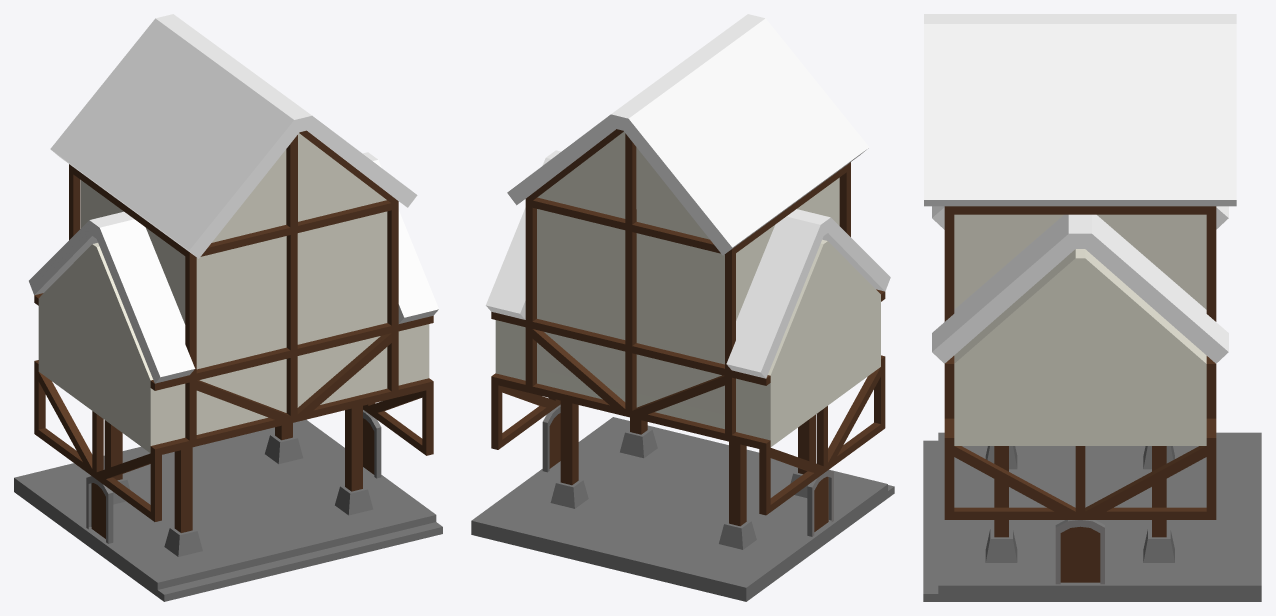
Rendered from Guild Hall Long Tower.fbx.
3 renders of one model, left to right at view 1: azimuth 30°, elevation 25°; view 2: azimuth 150°, elevation 25°; view 3: azimuth 270°, elevation 25°, orthographic. The views are drawn at different scales.
Visible parts, largest first — view 1: Guild Hall Long Tower; view 2: Guild Hall Long Tower; view 3: Guild Hall Long Tower.
Part boxes in pixels (box(x1,y1,x2,y2)): Guild Hall Long Tower: box(14, 14, 442, 601); Guild Hall Long Tower: box(471, 14, 894, 601); Guild Hall Long Tower: box(923, 14, 1261, 601).
Size of the model in its own units: 100 by 154 by 93.32.
